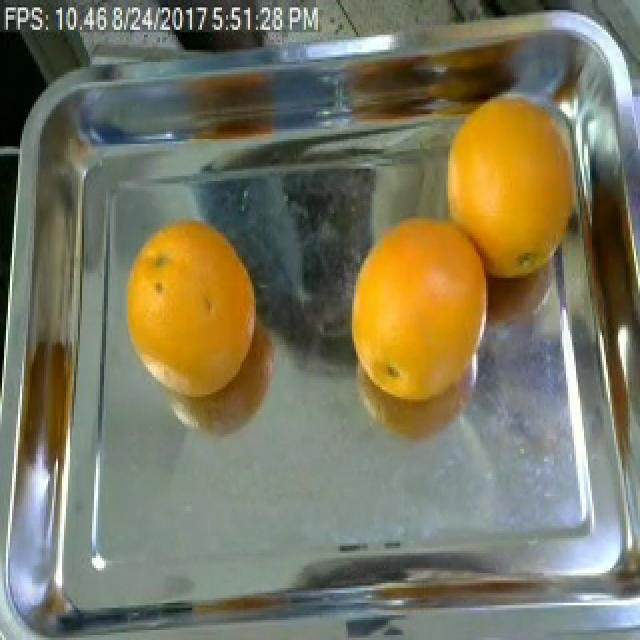Fruit: (334, 191, 496, 412), (116, 198, 276, 412), (430, 67, 580, 283)
